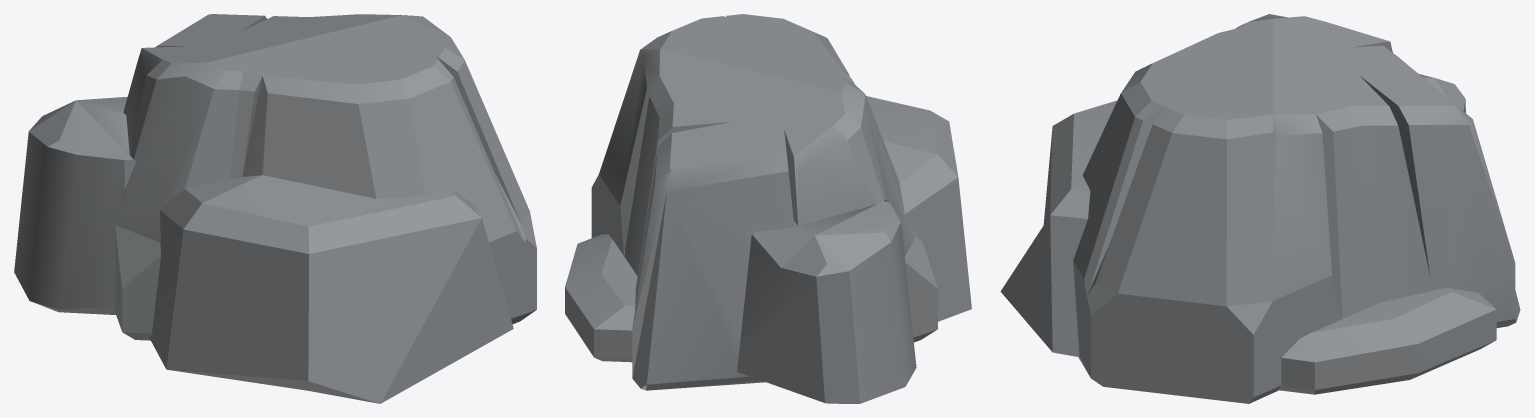
Rendered from small_rock.glb.
3 renders of one model, left to right at view 1: azimuth 30°, elevation 25°; view 2: azimuth 150°, elevation 25°; view 3: azimuth 270°, elevation 25°, orthographic. The views are drawn at different scales.
Parts seen in each view (by area): view 1: small_rock; view 2: small_rock; view 3: small_rock.
Boxes of the visible parts, box(x1,y1,x2,y2) form: small_rock: box(14, 14, 536, 403); small_rock: box(565, 14, 971, 403); small_rock: box(1000, 14, 1520, 403).
Size of the model in its own units: 0.1241 by 0.0764 by 0.1379.
Materials: 1 (1 with a texture image).
